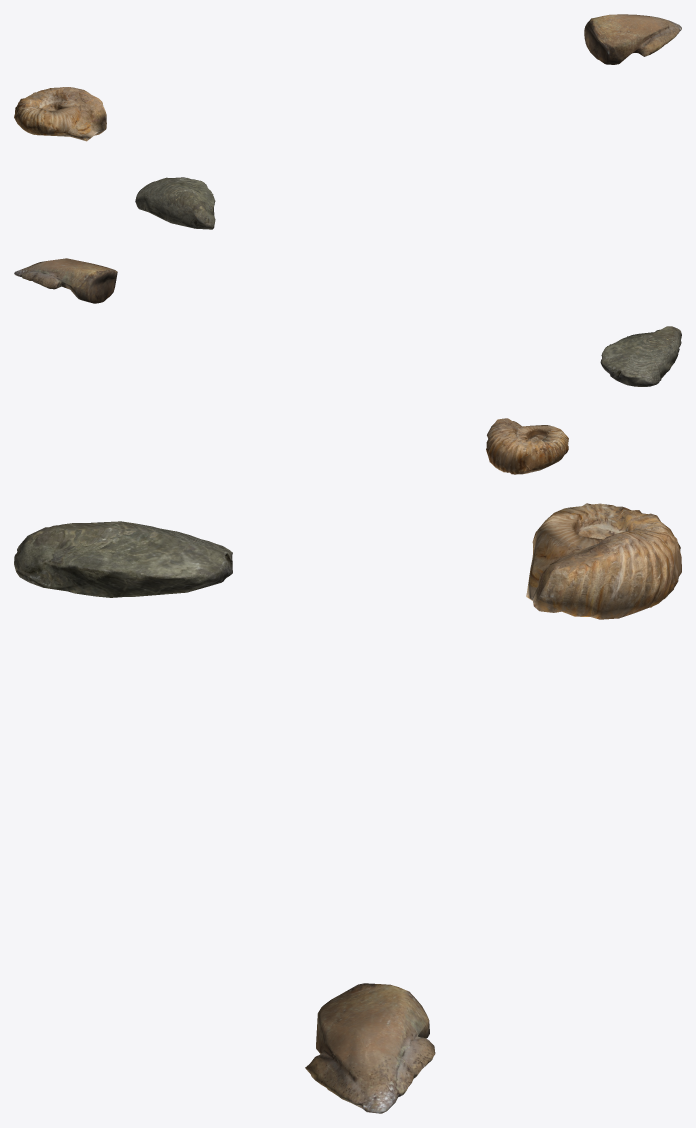
File: fossils.fbx
The picture shows the model from 3 angles, top to bottom: view 1: azimuth 30°, elevation 25°; view 2: azimuth 150°, elevation 25°; view 3: azimuth 270°, elevation 25°; orthographic projection. The views are drawn at different scales.
Visible parts, largest first — view 1: fossil18, fossil15, fossil11; view 2: fossil18, fossil11, fossil15; view 3: fossil18, fossil11, fossil15.
Part boxes in pixels (bbox=[...]): fossil18: bbox=[14, 87, 106, 141]; fossil15: bbox=[584, 14, 681, 64]; fossil11: bbox=[135, 177, 215, 229]; fossil18: bbox=[486, 418, 568, 474]; fossil11: bbox=[600, 326, 681, 386]; fossil15: bbox=[14, 258, 117, 303]; fossil18: bbox=[526, 503, 681, 619]; fossil11: bbox=[14, 521, 232, 597]; fossil15: bbox=[305, 983, 435, 1113].
Bounding box in the file's own units: 613 × 37.62 × 301.
3 materials, 3 textured.
